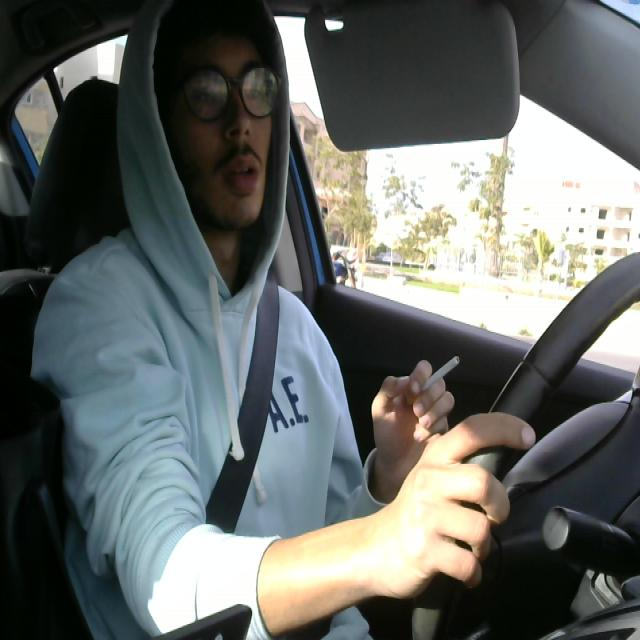smoking: (405, 347, 469, 415)
